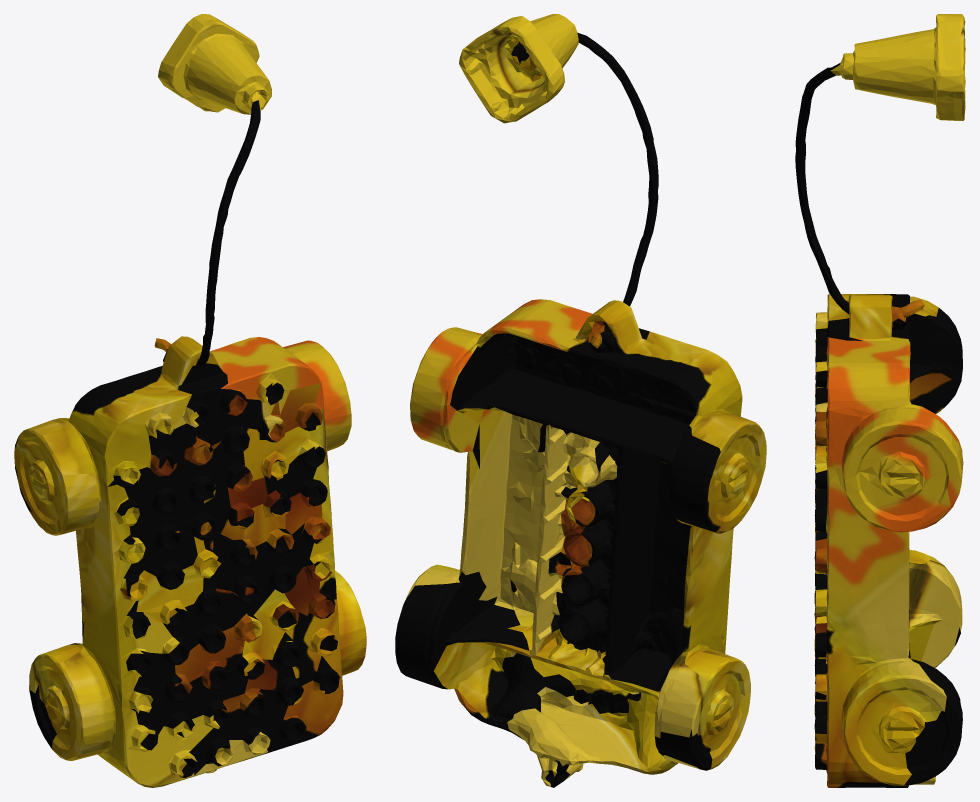
3 renders of one model, left to right at view 1: azimuth 30°, elevation 25°; view 2: azimuth 150°, elevation 25°; view 3: azimuth 270°, elevation 25°, orthographic. The views are drawn at different scales.
Visible parts, largest first — view 1: node; view 2: node; view 3: node.
Boxes of the visible parts, box(x1,y1,x2,y2) form: node: box(14, 14, 366, 787); node: box(395, 14, 766, 787); node: box(795, 14, 965, 787).
Bounding box in the file's own units: 0.1336 × 0.3041 × 0.06.
